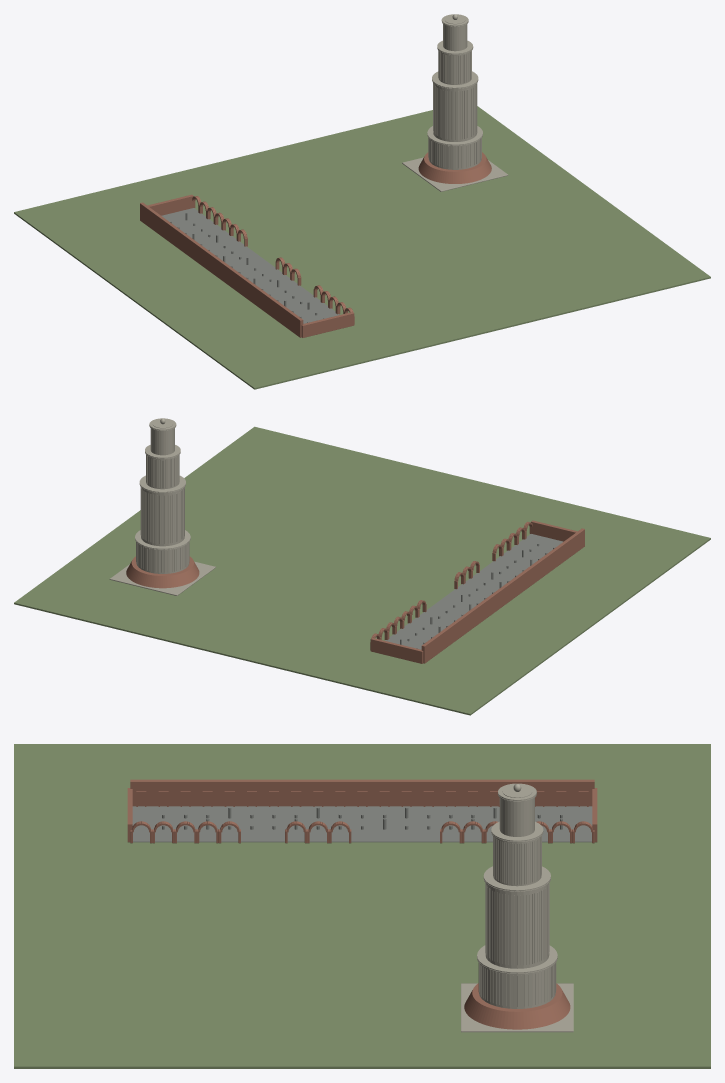
Rendered from pradyumna_shrinkhala_kshetra_full.glb.
3 views of the same model, one above another, from view 1: azimuth 30°, elevation 25°; view 2: azimuth 150°, elevation 25°; view 3: azimuth 270°, elevation 25° (orthographic). The views are drawn at different scales.
Parts seen in each view (by area): view 1: Ground_Pandua, BariMasjid_Floor, BariMasjid_West_Ruin, Minar_Stage_2, Minar_Stage_1, Minar_Sloping_Base, Minar_Stage_3, BariMasjid_End_Ruin, Minar_Platform, Minar_Stage_4; view 2: Ground_Pandua, BariMasjid_Floor, BariMasjid_West_Ruin, Minar_Stage_2, Minar_Stage_1, Minar_Sloping_Base, Minar_Stage_3, BariMasjid_End_Ruin.001, Minar_Platform, Minar_Stage_4, BariMasjid_End_Ruin; view 3: Ground_Pandua, BariMasjid_Floor, BariMasjid_West_Ruin, Minar_Stage_2, Minar_Stage_1, Minar_Sloping_Base, Minar_Stage_3, Minar_Platform, Minar_Stage_4, Minar_Cornice_0_0.23, Minar_Cornice_1_0.23.
Part boxes in pixels (bbox=[...]): Ground_Pandua: bbox=[14, 106, 710, 389]; BariMasjid_Floor: bbox=[161, 208, 339, 323]; BariMasjid_West_Ruin: bbox=[140, 202, 303, 337]; Minar_Stage_2: bbox=[433, 83, 477, 141]; Minar_Stage_1: bbox=[428, 139, 481, 169]; Minar_Sloping_Base: bbox=[418, 152, 491, 183]; Minar_Stage_3: bbox=[439, 51, 471, 84]; BariMasjid_End_Ruin: bbox=[301, 312, 354, 337]; Minar_Platform: bbox=[402, 157, 508, 191]; Minar_Stage_4: bbox=[443, 24, 467, 51]; Ground_Pandua: bbox=[14, 426, 710, 715]; BariMasjid_Floor: bbox=[385, 534, 563, 649]; BariMasjid_West_Ruin: bbox=[421, 528, 584, 663]; Minar_Stage_2: bbox=[141, 487, 184, 546]; Minar_Stage_1: bbox=[136, 543, 189, 573]; Minar_Sloping_Base: bbox=[126, 556, 199, 588]; Minar_Stage_3: bbox=[146, 455, 179, 489]; BariMasjid_End_Ruin.001: bbox=[370, 638, 423, 663]; Minar_Platform: bbox=[109, 561, 215, 595]; Minar_Stage_4: bbox=[150, 428, 174, 455]; BariMasjid_End_Ruin: bbox=[531, 520, 577, 541]; Ground_Pandua: bbox=[14, 744, 710, 1068]; BariMasjid_Floor: bbox=[132, 806, 592, 842]; BariMasjid_West_Ruin: bbox=[130, 779, 594, 806]; Minar_Stage_2: bbox=[485, 883, 549, 968]; Minar_Stage_1: bbox=[479, 964, 555, 1008]; Minar_Sloping_Base: bbox=[464, 983, 570, 1029]; Minar_Stage_3: bbox=[493, 837, 541, 886]; Minar_Platform: bbox=[461, 983, 573, 1032]; Minar_Stage_4: bbox=[499, 798, 534, 836]; Minar_Cornice_0_0.23: bbox=[477, 945, 557, 973]; Minar_Cornice_1_0.23: bbox=[483, 866, 550, 891].
Bounding box in the file's own units: 115 × 37.71 × 105.
